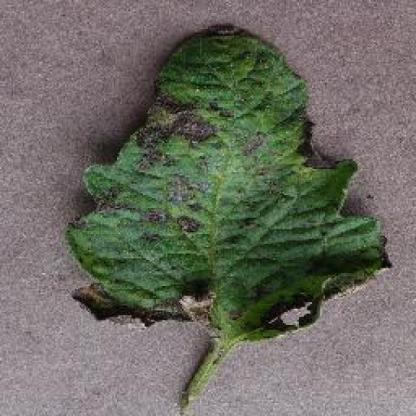Tomato_Blight: (69, 24, 392, 341)
